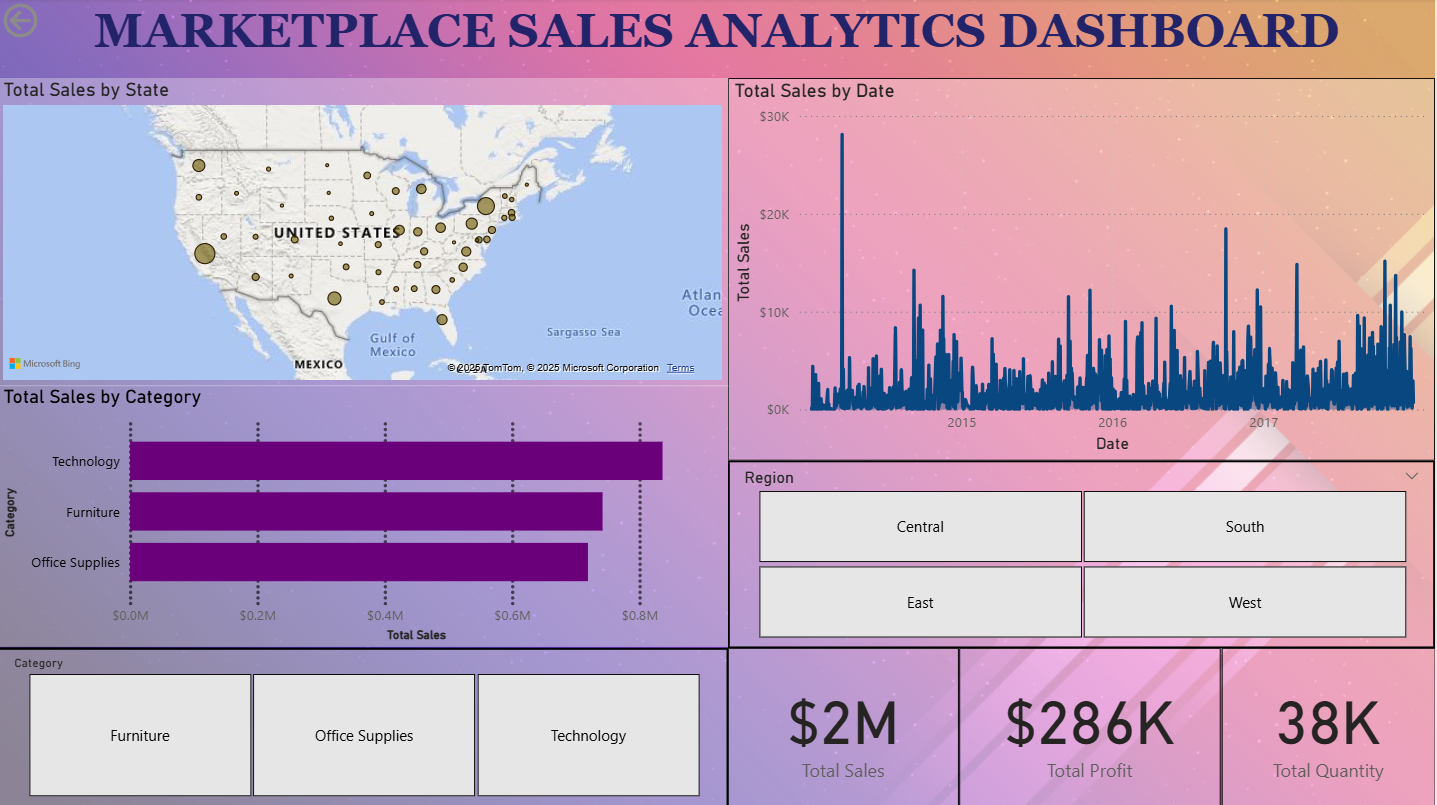

Layout of this report page (visuals, bound fields, positions):
{"tool":"powerbi","page":{"name":"Executive Summary","canvas":[1280,720],"ordinal":0},"visuals":[{"type":"card","fields":{"Values":["_Measures.Total Sales"]},"box":[650.2,578.7,206,141.3],"z":0},{"type":"card","fields":{"Values":["_Measures.Total Quantity"]},"box":[1089.4,578.7,190.6,141.3],"z":1000},{"type":"card","fields":{"Values":["_Measures.Total Profit"]},"box":[856.2,578.7,233.2,141.3],"z":2000},{"type":"lineChart","fields":{"Category":["Dim_Date.Date"],"Y":["_Measures.Total Sales"]},"box":[650.2,71.5,629.8,340.4],"z":3000},{"type":"actionButton","box":[0,0,100,40],"z":4000},{"type":"map","fields":{"Category":["Dim_Location.State"],"Size":["_Measures.Total Sales"]},"box":[0,71.5,650.2,274],"z":5000},{"type":"clusteredBarChart","fields":{"Category":["Dim_Product.Category"],"Y":["_Measures.Total Sales"]},"box":[0,345.5,650.2,233.2],"z":6000},{"type":"textbox","box":[0,0,1280.3,71.4],"z":7000},{"type":"slicer","fields":{"Values":["Dim_Product.Category"]},"box":[0,578.7,650.2,141.3],"z":7001},{"type":"slicer","fields":{"Values":["Dim_Location.Region"]},"box":[650.2,411.9,629.8,166.8],"z":7002}]}

Visuals, with their boxes in screenshot pixels (x1, y1, x2, y2), scaled from the page's 1280x720 canvas onto the 1437x805 screenshot:
card - _Measures.Total Sales: bbox=(730, 647, 961, 804)
card - _Measures.Total Quantity: bbox=(1223, 647, 1436, 804)
card - _Measures.Total Profit: bbox=(961, 647, 1223, 804)
lineChart - Dim_Date.Date x _Measures.Total Sales: bbox=(730, 80, 1436, 461)
actionButton: bbox=(0, 0, 112, 45)
map - Dim_Location.State x _Measures.Total Sales: bbox=(0, 80, 730, 386)
clusteredBarChart - Dim_Product.Category x _Measures.Total Sales: bbox=(0, 386, 730, 647)
textbox: bbox=(0, 0, 1436, 80)
slicer - Dim_Product.Category: bbox=(0, 647, 730, 804)
slicer - Dim_Location.Region: bbox=(730, 461, 1436, 647)
